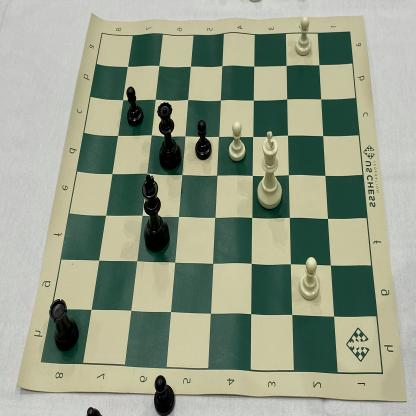black-king: (138, 173, 172, 256)
black-pawn: (193, 118, 214, 165), (125, 83, 145, 127)
black-queen: (157, 93, 182, 174)
white-bishop: (49, 296, 83, 355)
white-king: (255, 128, 287, 213)
white-pawn: (296, 254, 325, 303), (292, 15, 315, 60), (227, 117, 249, 164)
